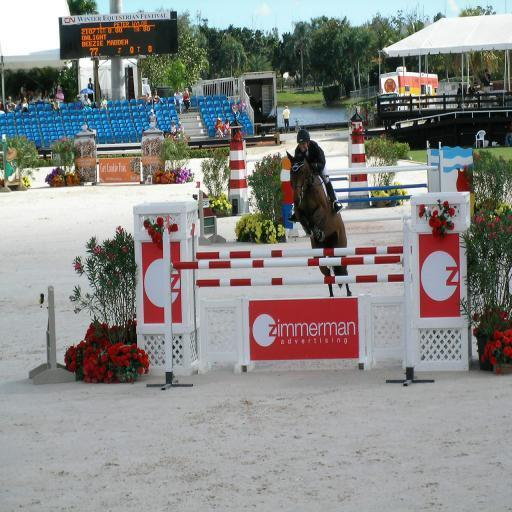horse: (284, 150, 354, 298)
